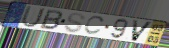9: (109, 19, 130, 39)
B: (39, 8, 64, 31)
C: (82, 16, 106, 36)
S: (63, 12, 86, 34)
U: (19, 5, 47, 29)
V: (131, 19, 155, 42)
